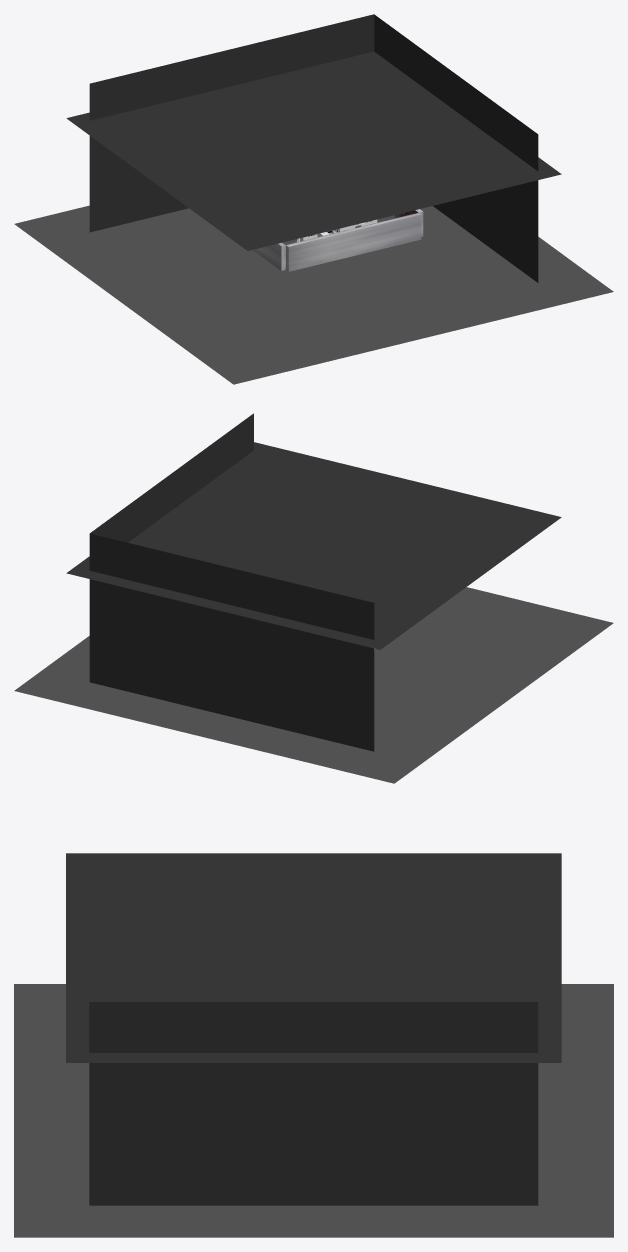
The model's file is exhibition2.glb.
3 views of the same model, one above another, from view 1: azimuth 30°, elevation 25°; view 2: azimuth 150°, elevation 25°; view 3: azimuth 270°, elevation 25° (orthographic). The views are drawn at different scales.
Visible parts, largest first — view 1: Plane014, Plane019, Plane020, Plane021, Box332, Box333; view 2: Plane019, Plane020, Plane014, Plane021; view 3: Plane021, Plane019, Plane014.
Boxes of the visible parts, x1=… form: Plane014: x1=14, y1=205, x2=613, y2=384; Plane019: x1=66, y1=51, x2=561, y2=250; Plane020: x1=89, y1=14, x2=374, y2=232; Plane021: x1=374, y1=14, x2=538, y2=282; Box332: x1=286, y1=212, x2=421, y2=271; Box333: x1=253, y1=242, x2=285, y2=270; Plane019: x1=66, y1=442, x2=561, y2=649; Plane020: x1=89, y1=533, x2=374, y2=751; Plane014: x1=14, y1=587, x2=613, y2=783; Plane021: x1=90, y1=413, x2=253, y2=542; Plane021: x1=89, y1=1002, x2=538, y2=1205; Plane019: x1=66, y1=853, x2=561, y2=1062; Plane014: x1=14, y1=984, x2=613, y2=1237.
Bounding box in the file's own units: 40.11 × 15 × 40.11.
25 materials, 8 textured.
